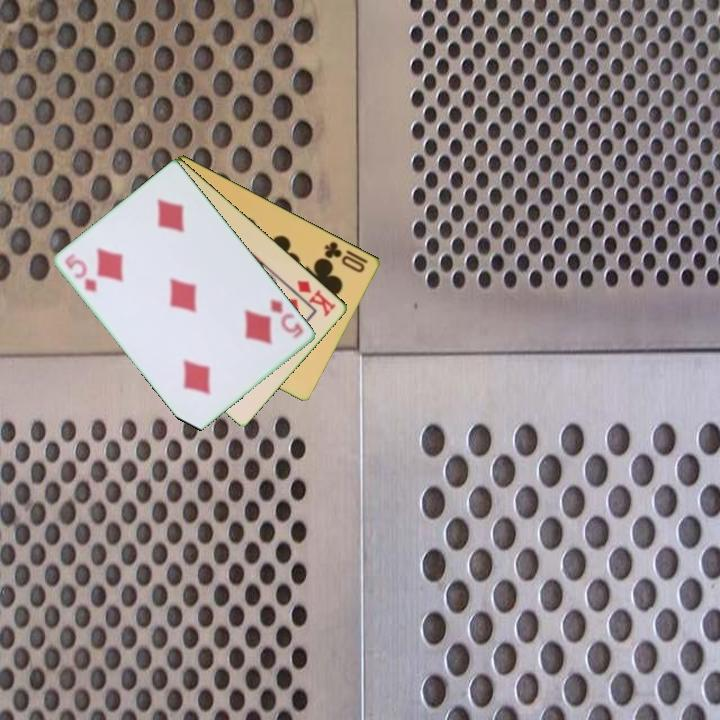10c: (321, 238, 368, 275)
5d: (267, 295, 307, 342), (61, 250, 101, 295)
Kd: (294, 276, 339, 319)
